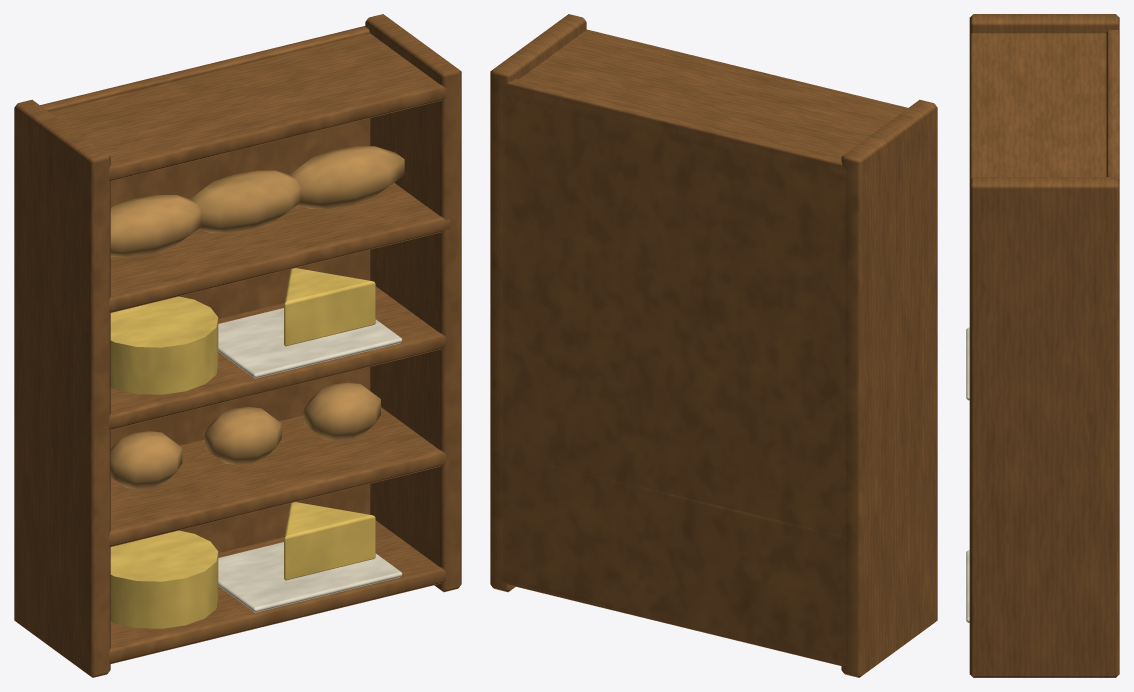
Rendered from Furn_CheeseBreadShelf.fbx.
3 renders of one model, left to right at view 1: azimuth 30°, elevation 25°; view 2: azimuth 150°, elevation 25°; view 3: azimuth 270°, elevation 25°, orthographic. The views are drawn at different scales.
Visible parts, largest first — view 1: Furn_CheeseBreadShelf_Mesh; view 2: Furn_CheeseBreadShelf_Mesh; view 3: Furn_CheeseBreadShelf_Mesh.
Part boxes in pixels (x1,y1,x2,y2): Furn_CheeseBreadShelf_Mesh: (14,14,461,677); Furn_CheeseBreadShelf_Mesh: (490,14,937,677); Furn_CheeseBreadShelf_Mesh: (966,14,1119,677).
Size of the model in its own units: 1.2 by 1.6 by 0.45.
